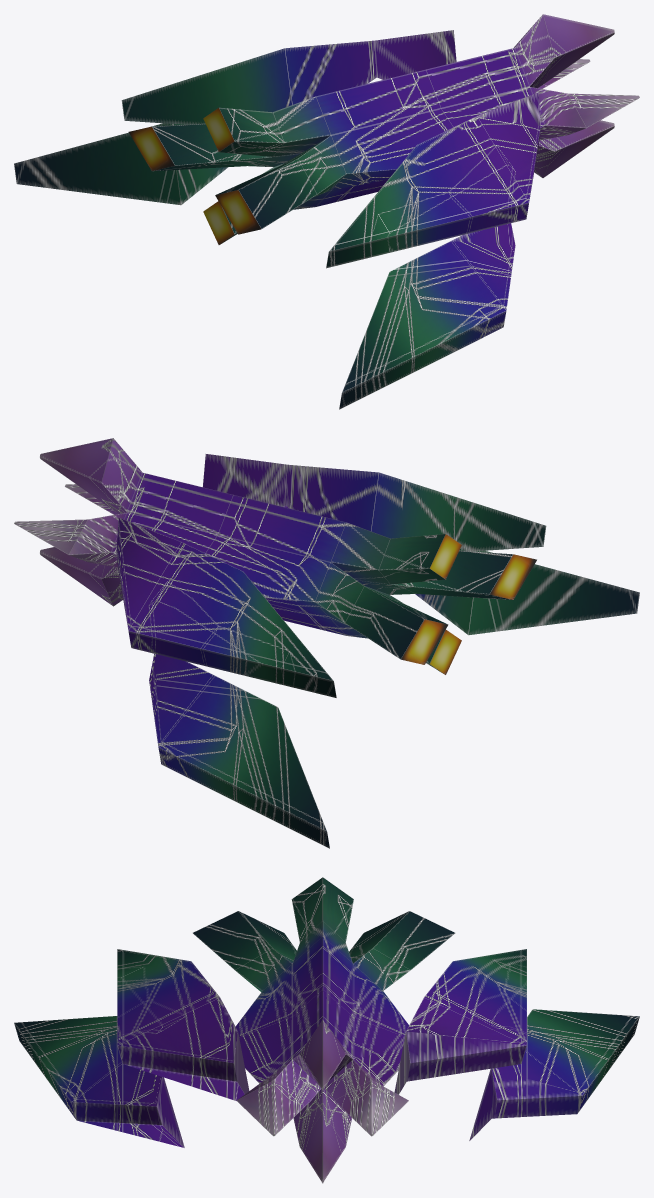
File: Scarab Ship.fbx
The picture shows the model from 3 angles, top to bottom: view 1: azimuth 30°, elevation 25°; view 2: azimuth 150°, elevation 25°; view 3: azimuth 270°, elevation 25°; orthographic projection. The views are drawn at different scales.
Parts seen in each view (by area): view 1: Scarab_Ship; view 2: Scarab_Ship; view 3: Scarab_Ship.
Boxes of the visible parts, left/top/right/bottom form: Scarab_Ship: left=14, top=14, right=639, bottom=409; Scarab_Ship: left=14, top=438, right=639, bottom=848; Scarab_Ship: left=14, top=877, right=639, bottom=1183.
Bounding box in the file's own units: 5.88 × 2.51 × 7.32.
